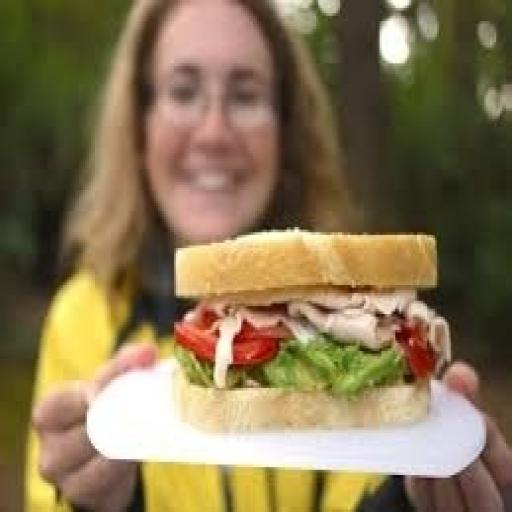eating: (21, 0, 510, 509)
